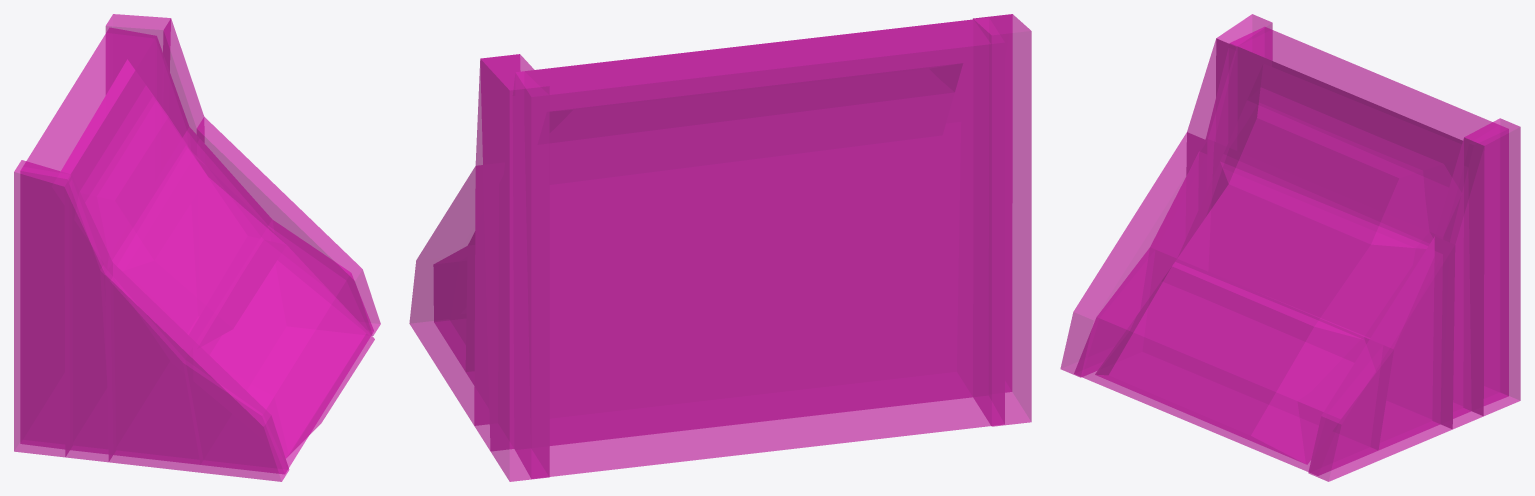
The model's file is SM_Bld_45_Wall_L_Damaged_01_Alt_01_Collision.fbx.
The picture shows the model from 3 angles, left to right: view 1: azimuth 30°, elevation 25°; view 2: azimuth 150°, elevation 25°; view 3: azimuth 270°, elevation 25°; orthographic projection. The views are drawn at different scales.
Parts seen in each view (by area): view 1: SM_Bld_45_Wall_L_Damaged_01_Alt_01_Collision; view 2: SM_Bld_45_Wall_L_Damaged_01_Alt_01_Collision; view 3: SM_Bld_45_Wall_L_Damaged_01_Alt_01_Collision.
Boxes of the visible parts, left/top/right/bottom form: SM_Bld_45_Wall_L_Damaged_01_Alt_01_Collision: left=14, top=14, right=380, bottom=481; SM_Bld_45_Wall_L_Damaged_01_Alt_01_Collision: left=409, top=14, right=1031, bottom=481; SM_Bld_45_Wall_L_Damaged_01_Alt_01_Collision: left=1060, top=14, right=1520, bottom=481.
Bounding box in the file's own units: 925 × 609 × 928.
